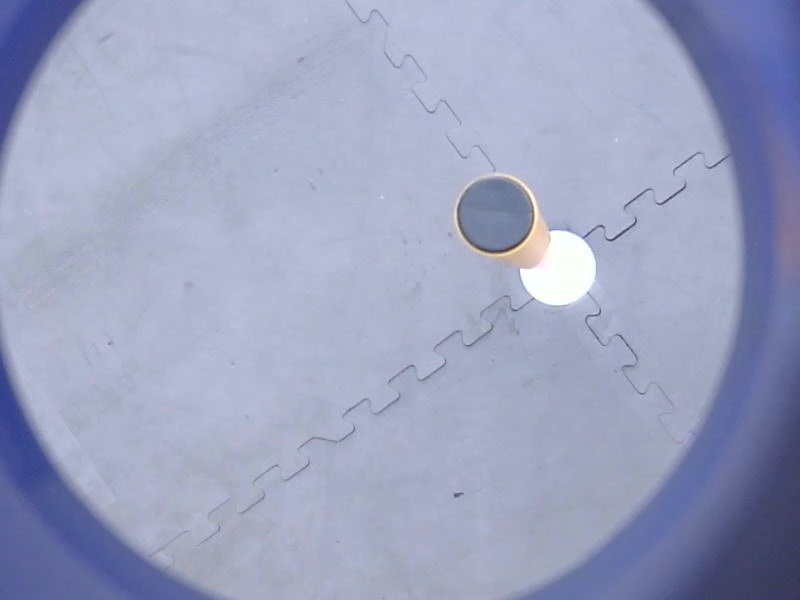tip: (451, 168, 542, 261)
